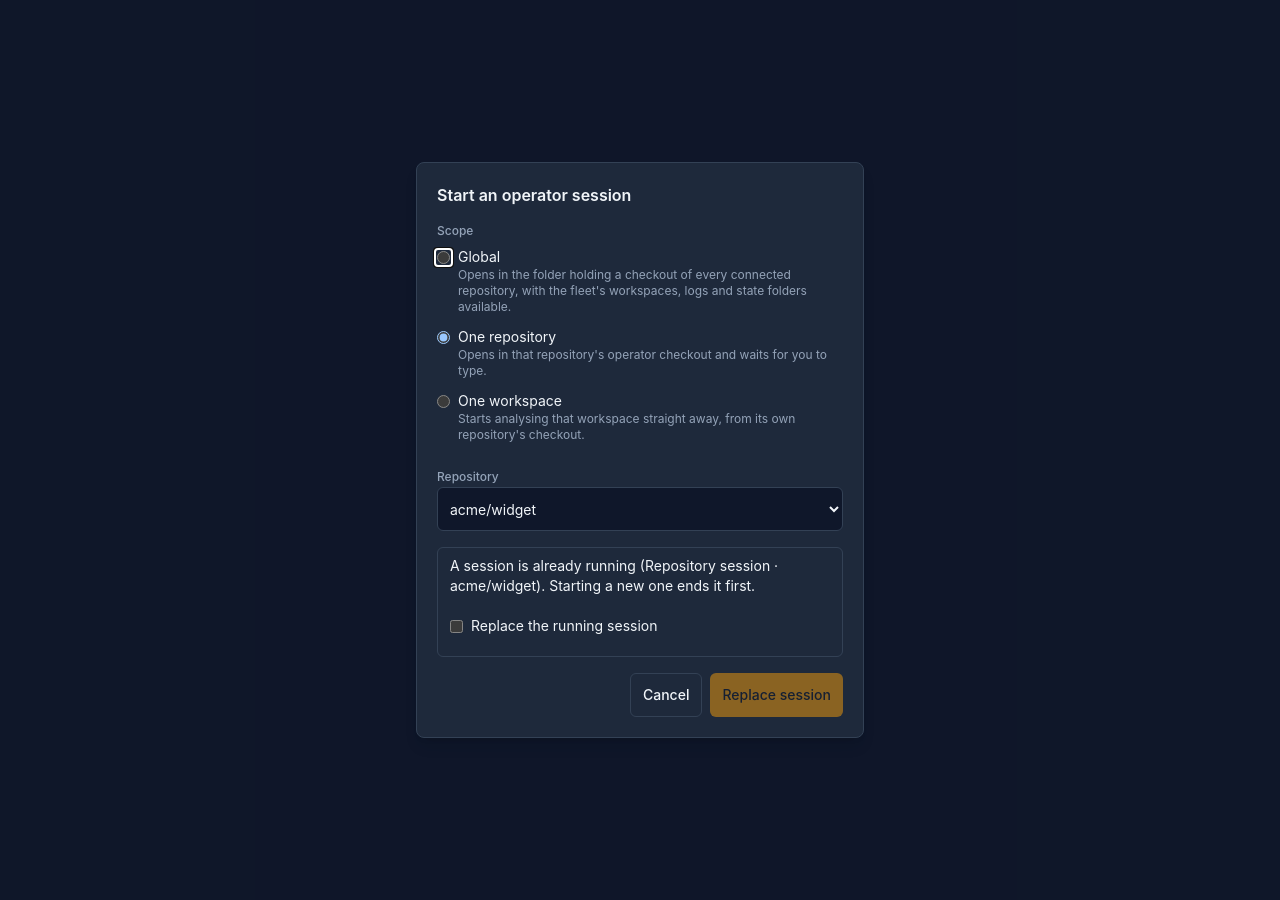
Scenario: ScopePickerDialog — replacing a running session › keeps a repository start disabled until both a repository and the replace are chosen
Expected: the dropdown with test id "operator-target" shows "acme/widget", [437,487,843,531]
Expected: the button with test id "operator-start-submit" is disabled, [710,673,843,717]
Click the checkbox with test id "operator-replace-confirm". click: (456, 626)
box: [450,620,463,632]
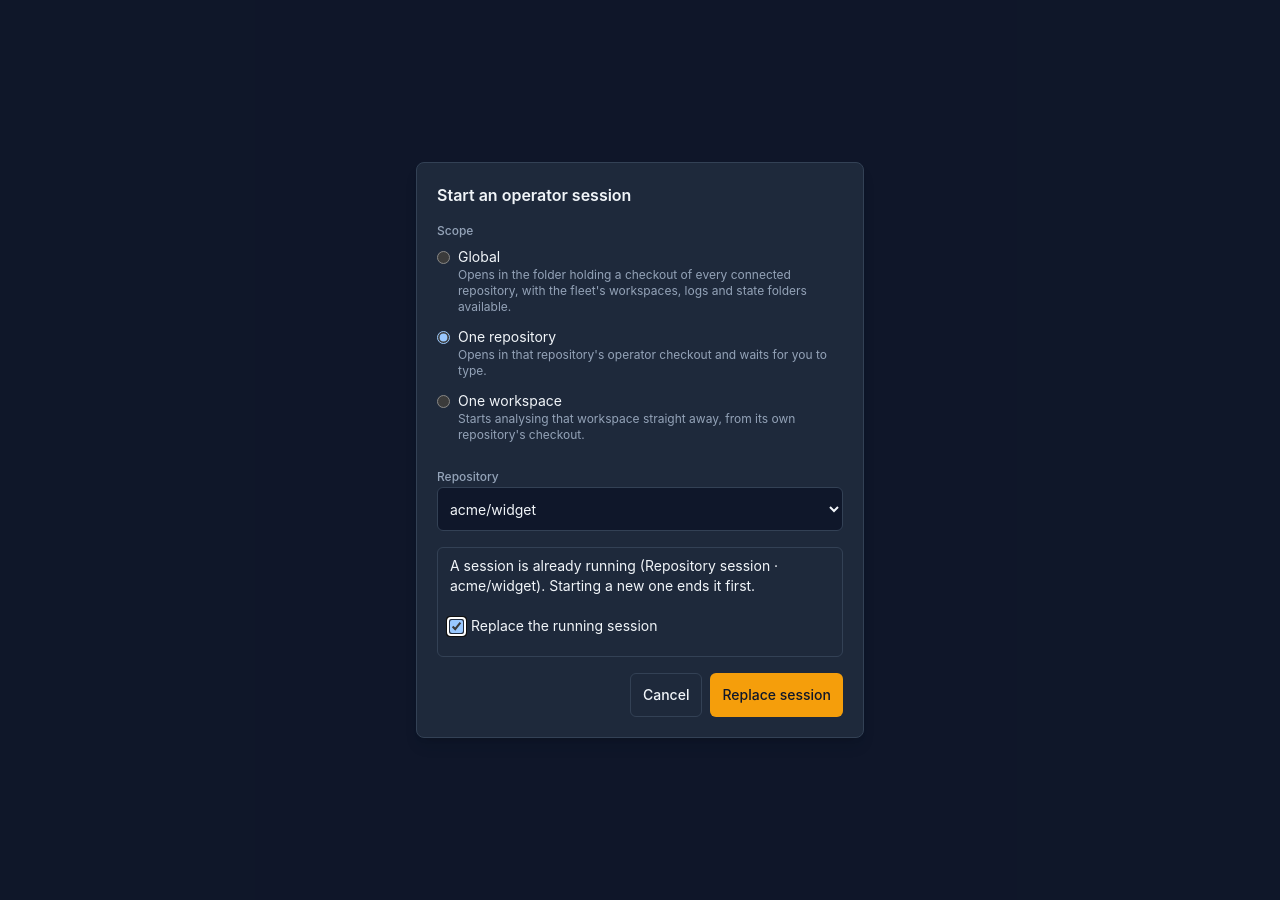
Now the button with test id "operator-start-submit" is enabled, box [710,673,843,717]
